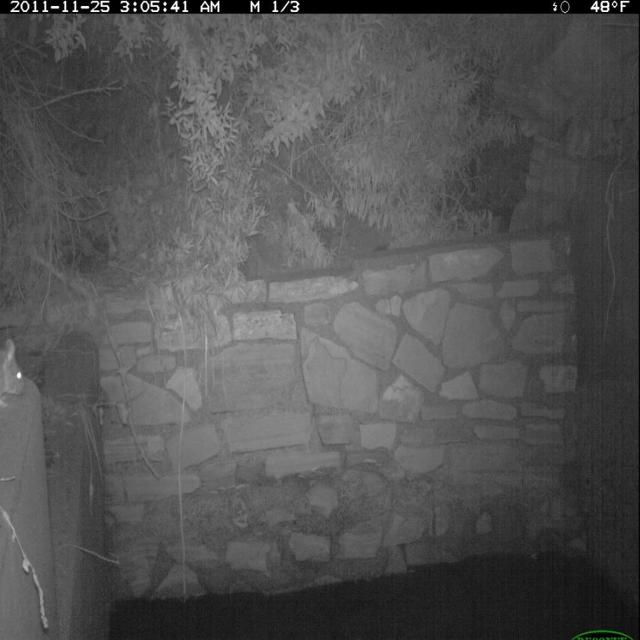rodent: (1, 332, 33, 409)
